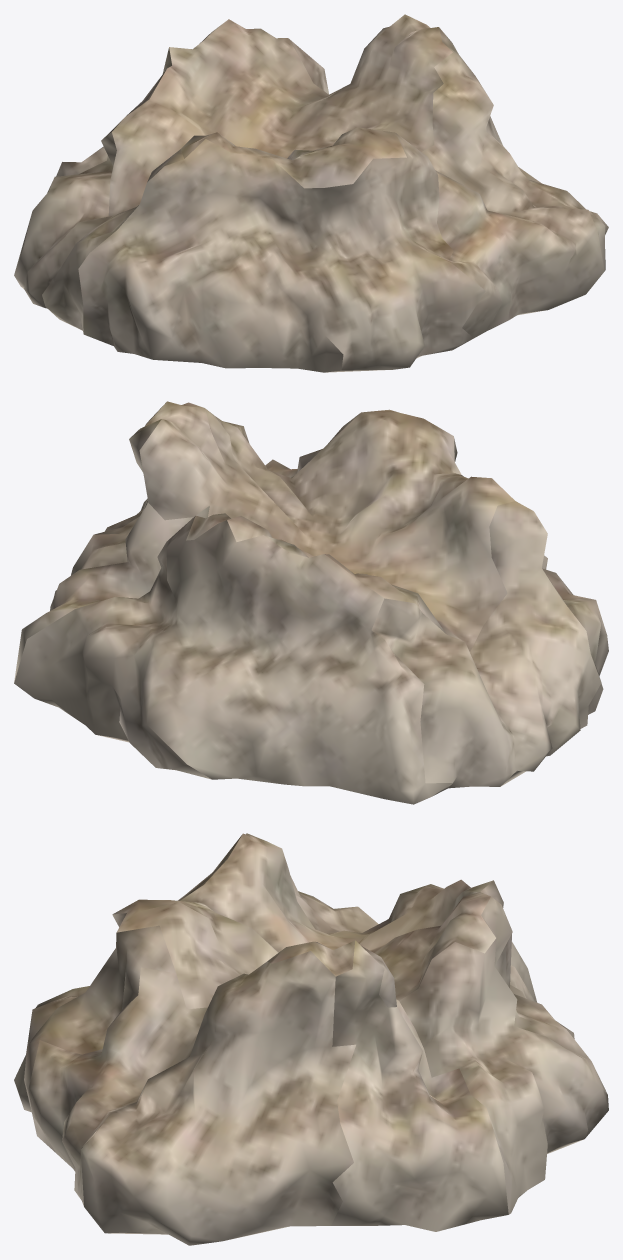
The picture shows the model from 3 angles, top to bottom: view 1: azimuth 30°, elevation 25°; view 2: azimuth 150°, elevation 25°; view 3: azimuth 270°, elevation 25°; orthographic projection. The views are drawn at different scales.
Parts seen in each view (by area): view 1: SM_Candle01_LOD0; view 2: SM_Candle01_LOD0; view 3: SM_Candle01_LOD0.
Boxes of the visible parts, bbox=[...] form: SM_Candle01_LOD0: bbox=[14, 14, 608, 372]; SM_Candle01_LOD0: bbox=[14, 401, 608, 804]; SM_Candle01_LOD0: bbox=[14, 833, 608, 1245].
Bounding box in the file's own units: 0.1891 × 0.0833 × 0.1773.
Materials: 1 (1 with a texture image).
